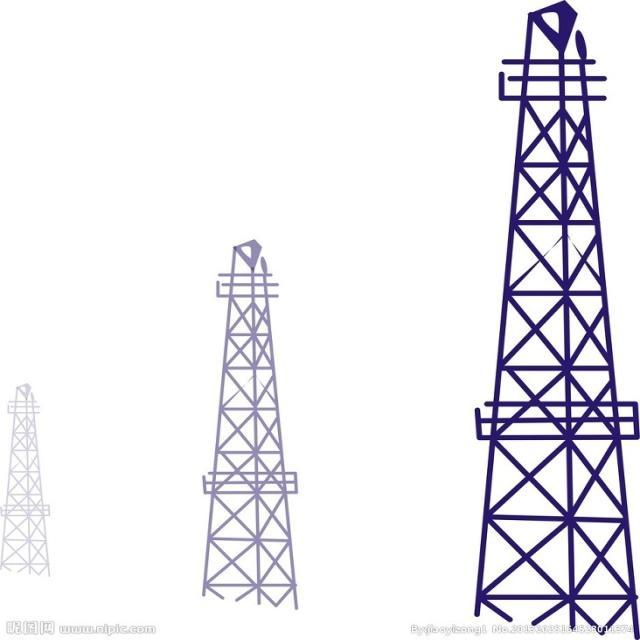non-critical vegetation: (460, 4, 638, 626), (192, 223, 302, 610), (1, 370, 48, 576)
